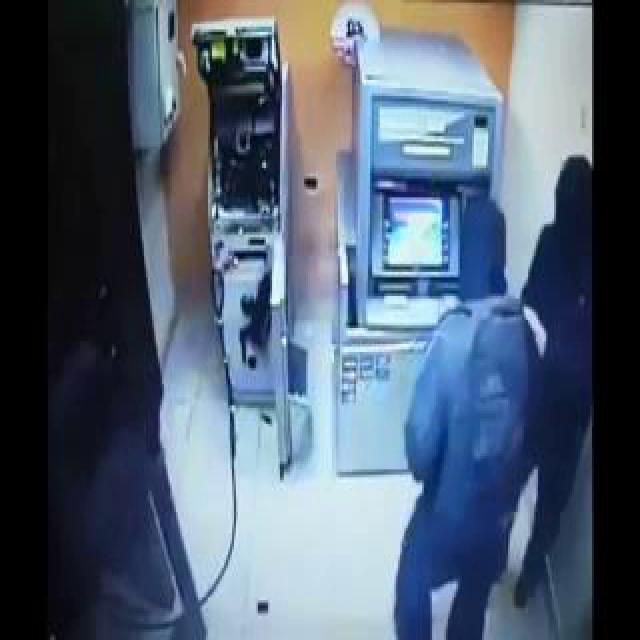burglary: (0, 0, 594, 608), (330, 66, 593, 626)
